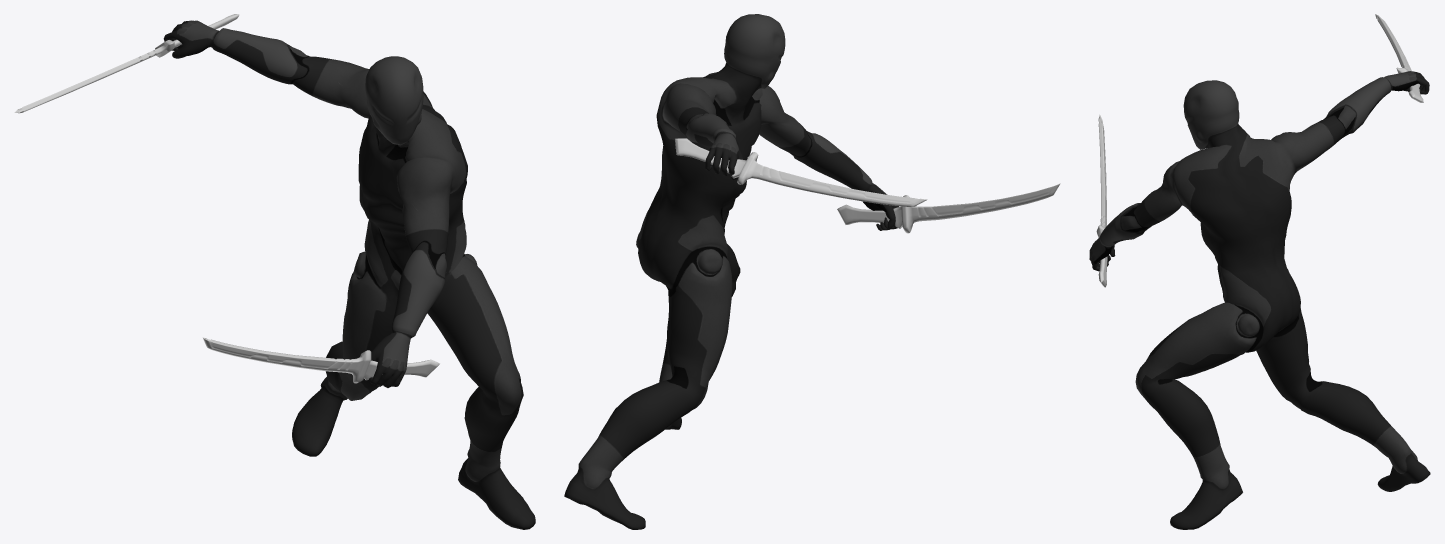
The picture shows the model from 3 angles, left to right: view 1: azimuth 30°, elevation 25°; view 2: azimuth 150°, elevation 25°; view 3: azimuth 270°, elevation 25°; orthographic projection. The views are drawn at different scales.
Visible parts, largest first — view 1: Cyborg_Ninja_Killer, Sword_l, Sword_l001; view 2: Cyborg_Ninja_Killer, Sword_l001, Sword_l; view 3: Cyborg_Ninja_Killer, Sword_l, Sword_l001.
Boxes of the visible parts, x1,y1,x2,y2 form: Cyborg_Ninja_Killer: [163, 20, 535, 529]; Sword_l: [202, 337, 439, 383]; Sword_l001: [14, 14, 239, 113]; Cyborg_Ninja_Killer: [564, 14, 898, 529]; Sword_l001: [675, 138, 927, 206]; Sword_l: [837, 183, 1060, 233]; Cyborg_Ninja_Killer: [1089, 71, 1430, 529]; Sword_l: [1096, 114, 1107, 287]; Sword_l001: [1375, 14, 1423, 102].
Bounding box in the file's own units: 144 × 162 × 126.
